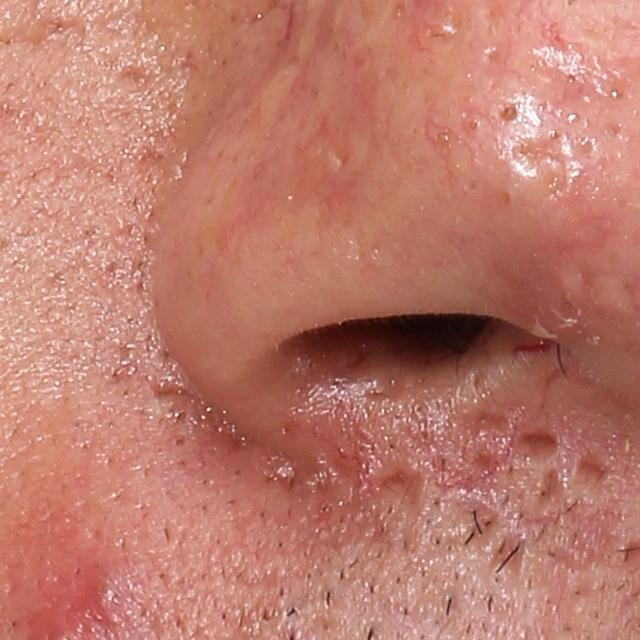atrophic_scar: (501, 129, 578, 185), (0, 11, 81, 52), (368, 458, 425, 505), (460, 400, 513, 439), (512, 424, 560, 465), (572, 452, 614, 492), (496, 529, 528, 575)
